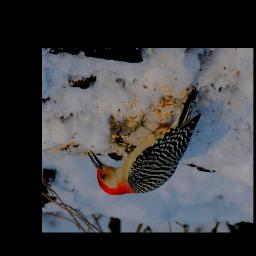Woodpecker: (87, 83, 204, 196)
